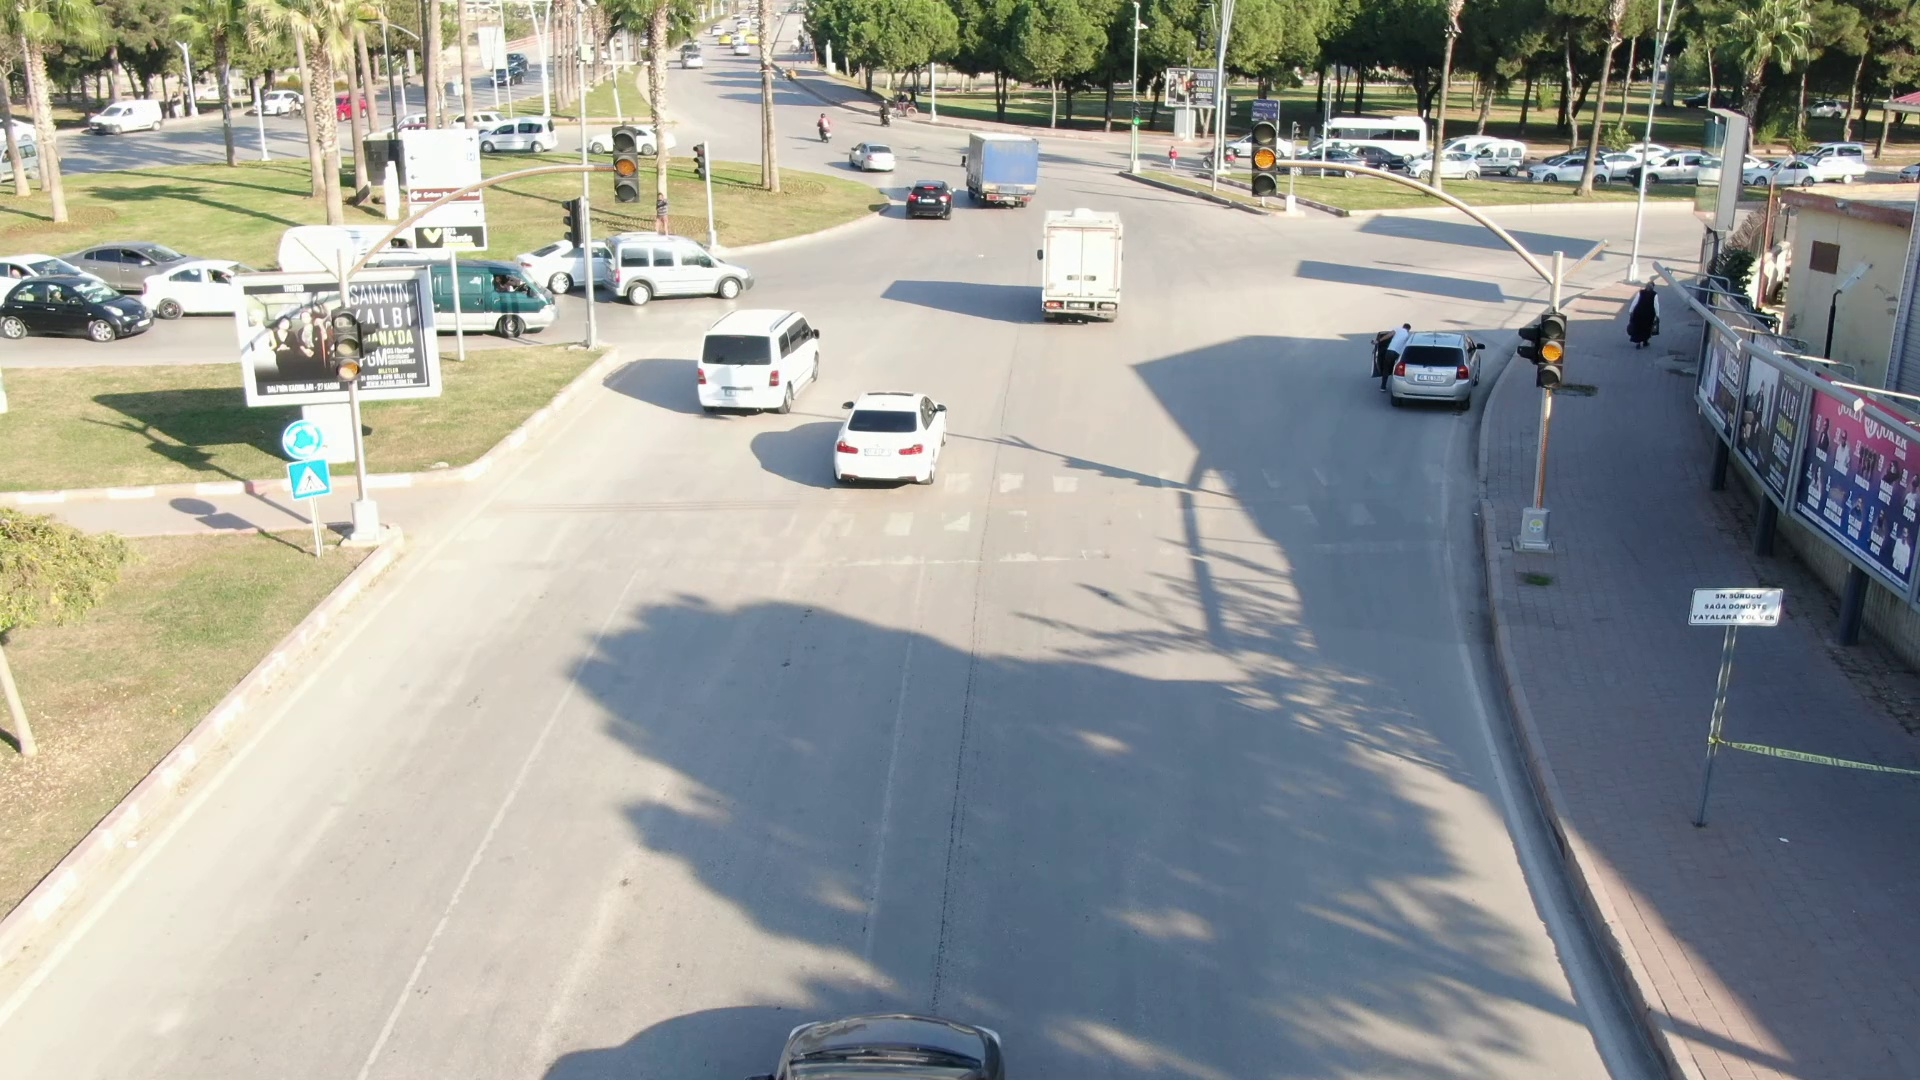car: (824, 381, 973, 493), (691, 299, 830, 419), (1023, 197, 1130, 330), (604, 226, 761, 303), (957, 124, 1053, 209), (1400, 337, 1498, 416), (900, 174, 960, 229)
person: (1623, 277, 1671, 357)
